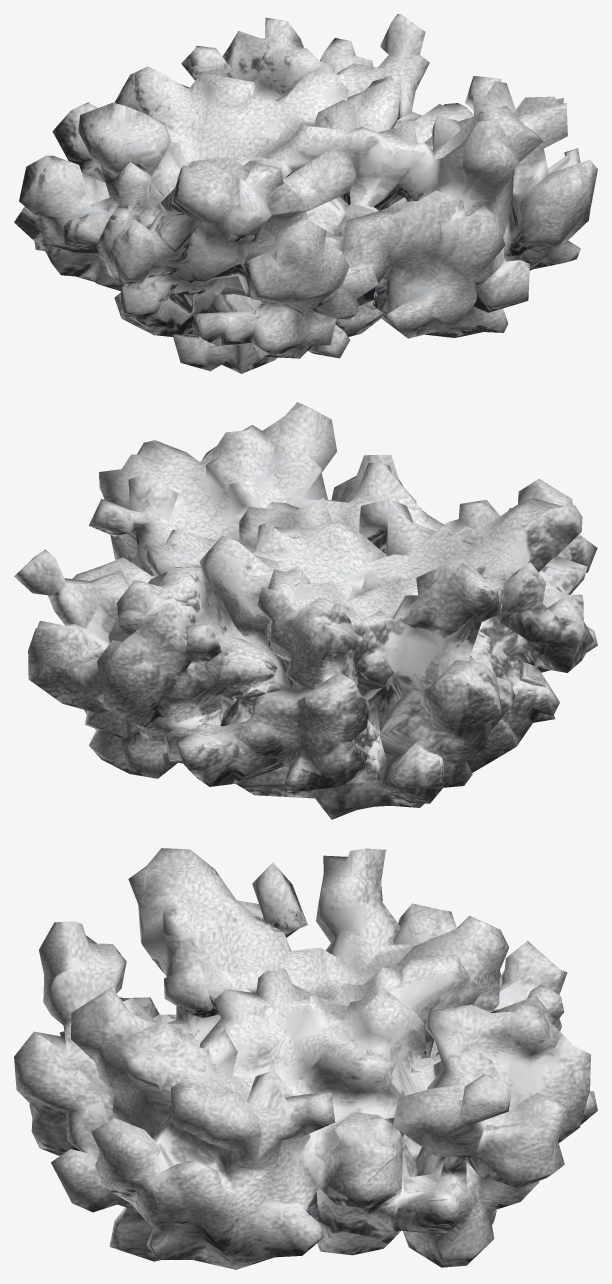
Rendered from Meshy_AI_Midnight_Storm_Clouds_0602173617_texture.fbx.
The picture shows the model from 3 angles, top to bottom: view 1: azimuth 30°, elevation 25°; view 2: azimuth 150°, elevation 25°; view 3: azimuth 270°, elevation 25°; orthographic projection. The views are drawn at different scales.
Visible parts, largest first — view 1: Mesh1.0; view 2: Mesh1.0; view 3: Mesh1.0.
Boxes of the visible parts, x1,y1,x2,y2 form: Mesh1.0: (14, 14, 597, 373); Mesh1.0: (14, 402, 597, 819); Mesh1.0: (14, 848, 597, 1269).
Bounding box in the file's own units: 189 × 91.45 × 183.
1 material, 1 textured.
